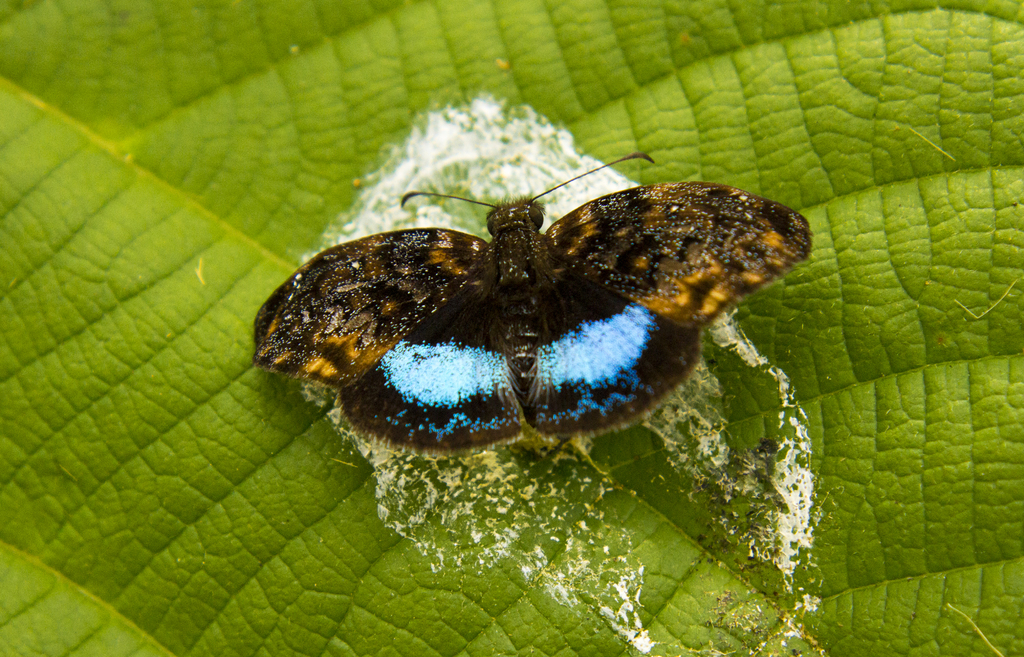Butterfly: (230, 181, 813, 453)
